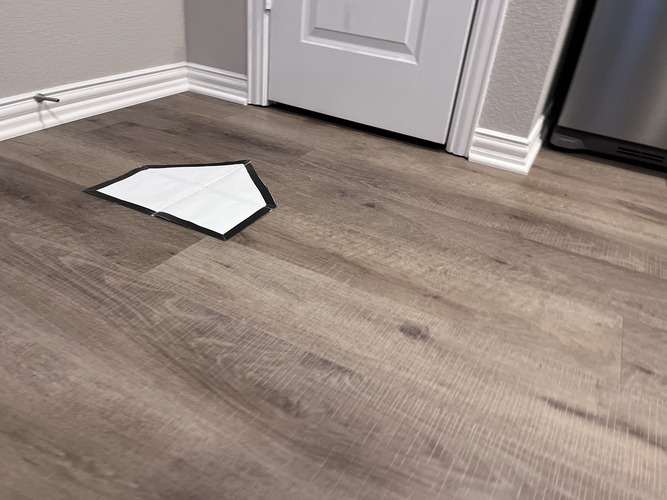homeplate: (80, 159, 277, 242)
